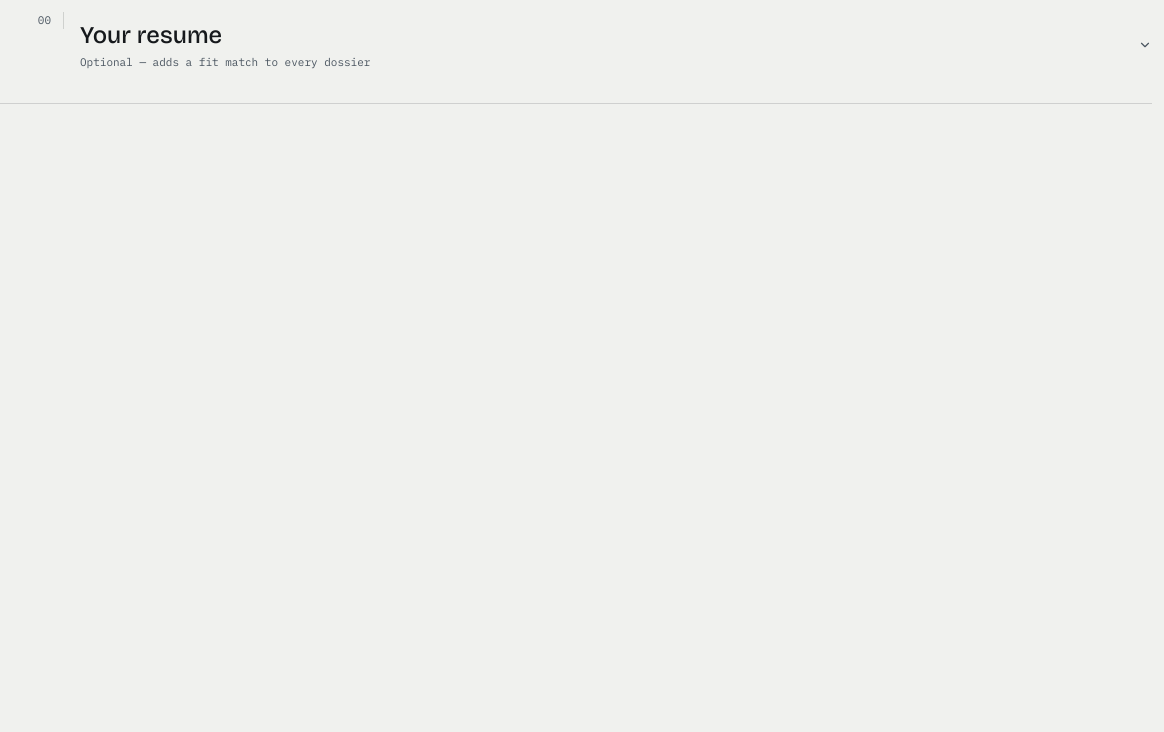
Test: ResumePanel — account region (reactive) › a SIGNED_IN event flips the panel to the signed-in state with identity + Sign out, no reload
The width and height of the screenshot is (1164, 732).
Click the button "Your resume Optional — adds a fit match to every dossier". click: (151, 35)
box: top-left (80, 12), bottom-right (1152, 78)
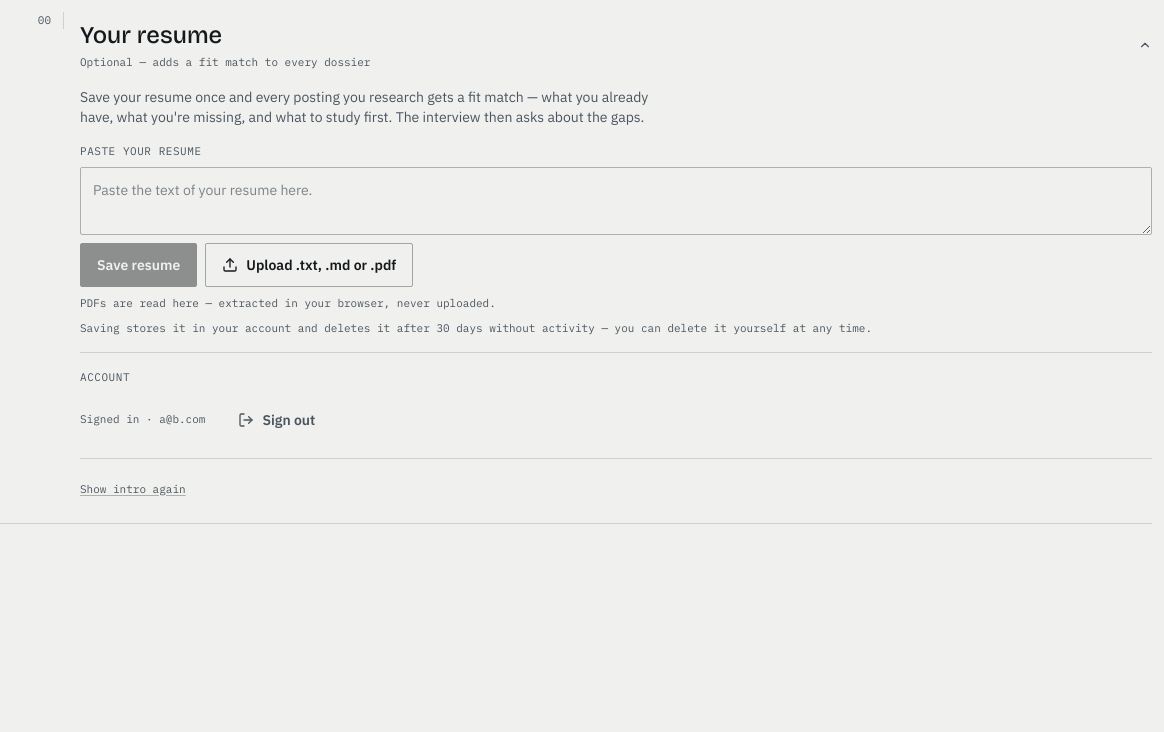
Result: the text "Signed in · a@b.com" is shown at top-left (80, 411), bottom-right (205, 428)
Result: the button "Sign out" is shown at top-left (221, 398), bottom-right (332, 442)
